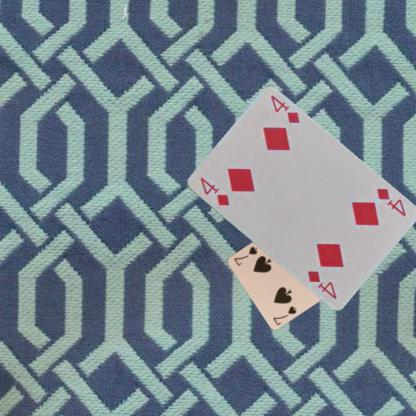4d: (197, 174, 231, 208), (374, 185, 408, 218)
7s: (270, 303, 298, 326)
